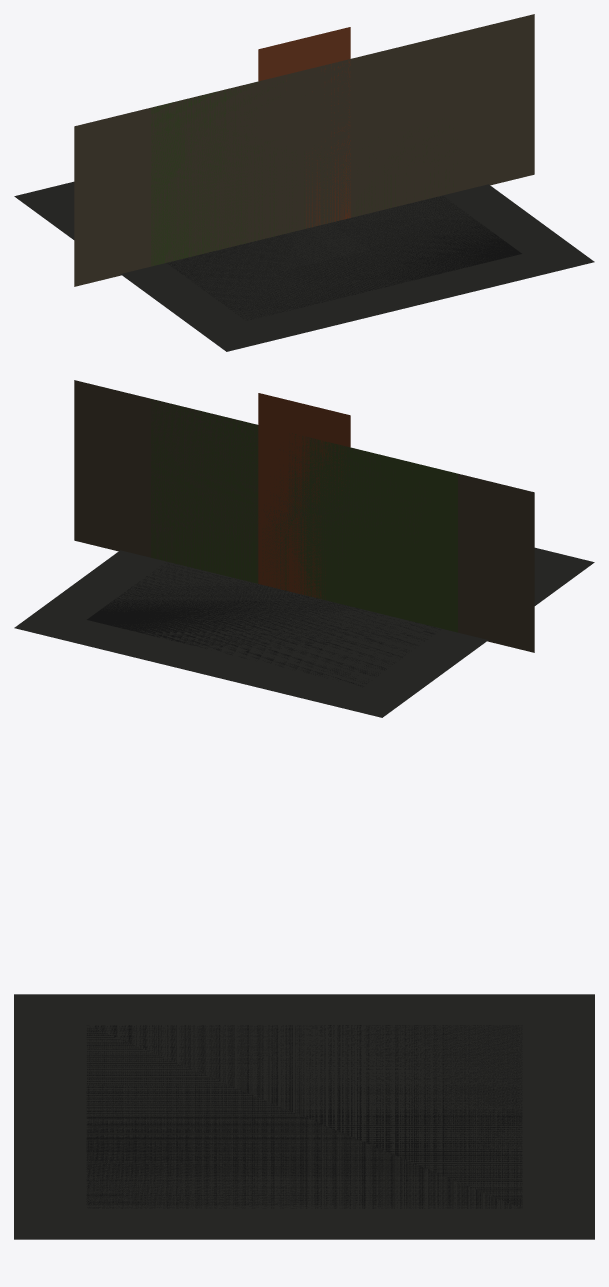
The model's file is boat_launch_damage_decals.glb.
3 views of the same model, one above another, from view 1: azimuth 30°, elevation 25°; view 2: azimuth 150°, elevation 25°; view 3: azimuth 270°, elevation 25° (orthographic). The views are drawn at different scales.
Parts seen in each view (by area): view 1: decal_waterline_LOD0, decal_crack_flat_LOD0, decal_oil_flat_LOD0, decal_algae_LOD0, decal_rust_run_LOD0; view 2: decal_algae_LOD0, decal_waterline_LOD0, decal_crack_flat_LOD0, decal_oil_flat_LOD0, decal_rust_run_LOD0; view 3: decal_crack_flat_LOD0, decal_oil_flat_LOD0.
Part boxes in pixels (x1,y1,x2,y2): decal_waterline_LOD0: (74, 14, 534, 286); decal_crack_flat_LOD0: (14, 181, 594, 351); decal_oil_flat_LOD0: (167, 196, 521, 320); decal_algae_LOD0: (151, 75, 457, 266); decal_rust_run_LOD0: (258, 27, 350, 228); decal_algae_LOD0: (151, 399, 457, 632); decal_waterline_LOD0: (74, 380, 534, 652); decal_crack_flat_LOD0: (14, 547, 594, 717); decal_oil_flat_LOD0: (87, 563, 440, 687); decal_rust_run_LOD0: (258, 393, 350, 599); decal_crack_flat_LOD0: (14, 994, 594, 1239); decal_oil_flat_LOD0: (86, 1025, 522, 1208).
Bounding box in the file's own units: 1.5 × 0.6 × 1.2.
